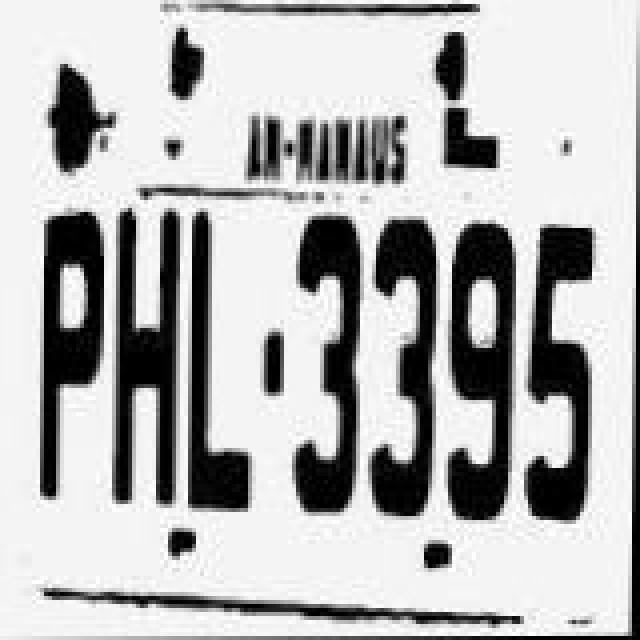3: (288, 212, 376, 520), (374, 214, 450, 526)
5: (520, 210, 608, 526)
9: (440, 218, 520, 530)
H: (108, 210, 188, 510)
L: (186, 210, 270, 522)
P: (24, 214, 112, 506)
